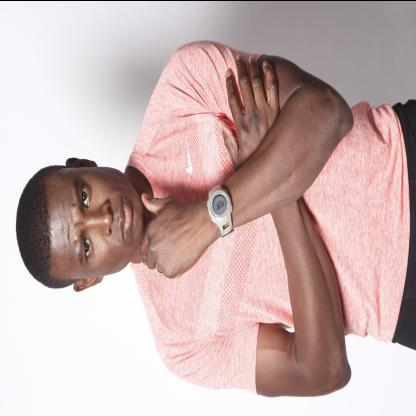Eye: (82, 233, 94, 264), (80, 182, 92, 210)
Mouth: (116, 192, 132, 242)
Nose: (88, 198, 115, 237)
